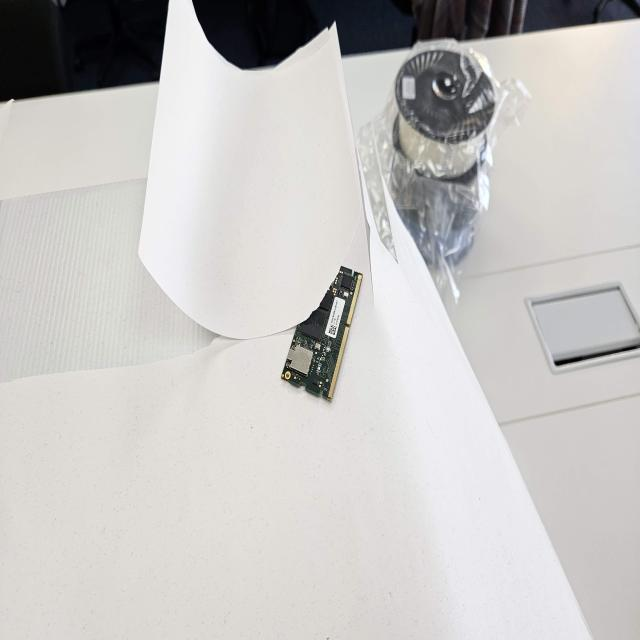som: (278, 263, 368, 398)
